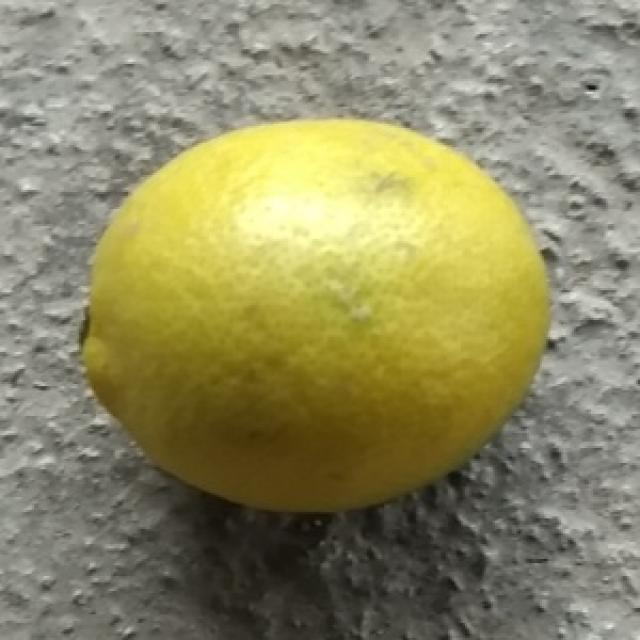Lemon: (77, 115, 551, 518)
